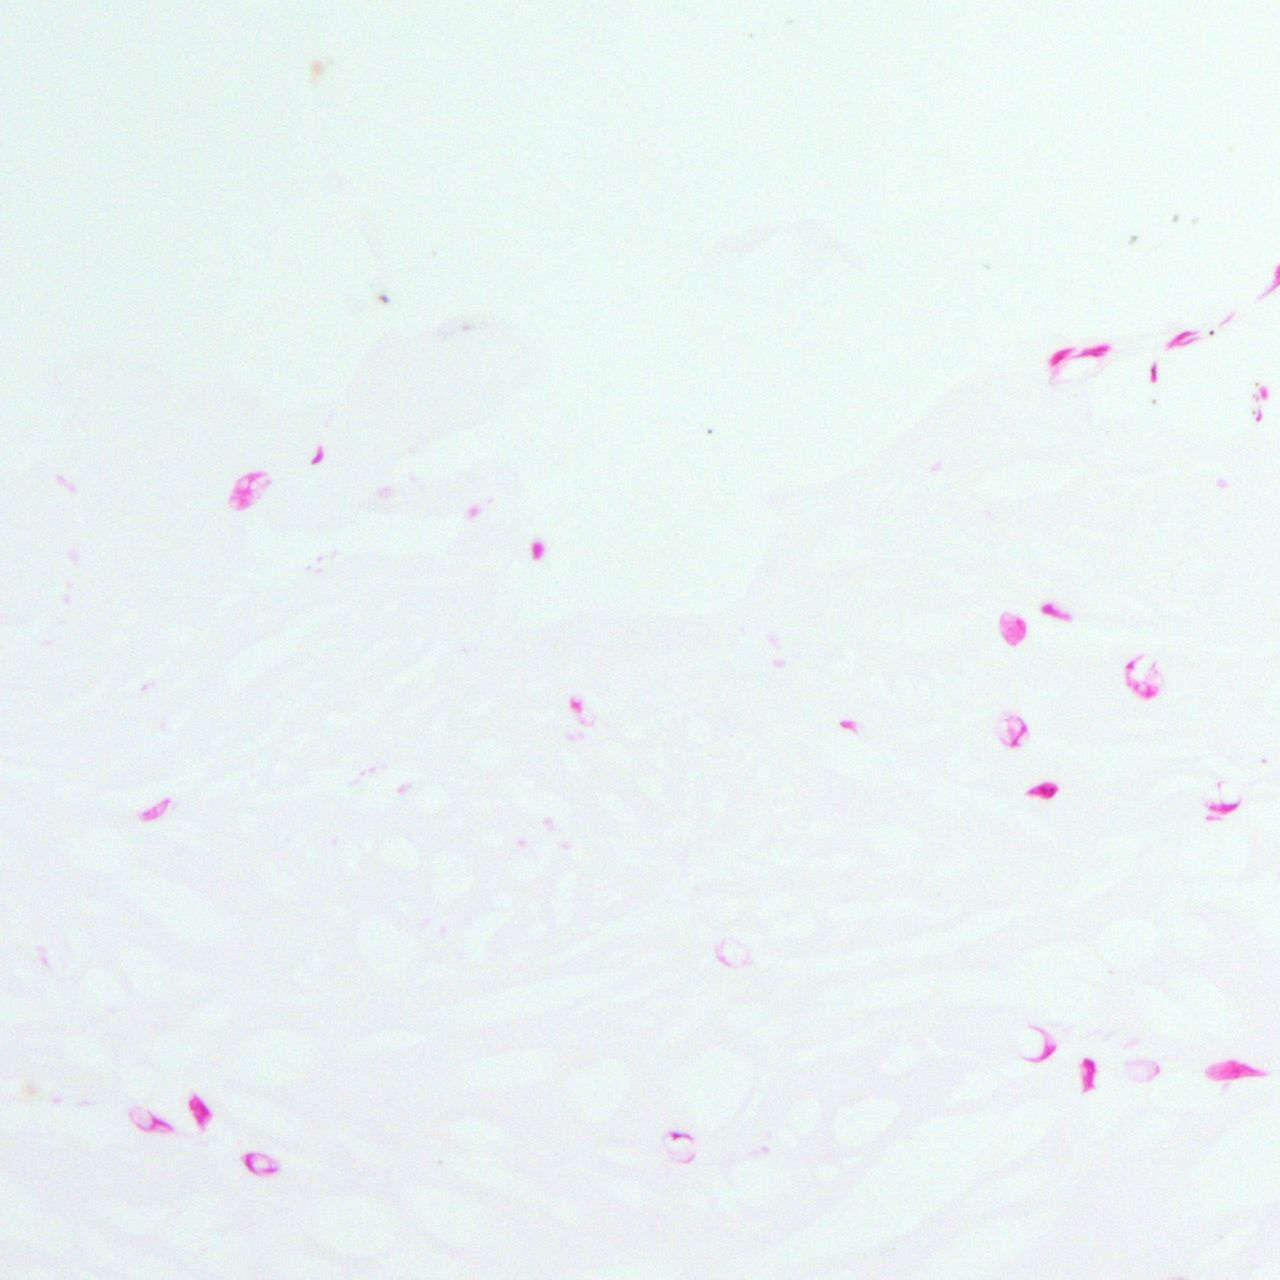dust: (1208, 329, 1213, 335), (1152, 399, 1155, 404), (708, 429, 712, 433)
nucleus-FG: (1206, 1060, 1267, 1080), (1044, 341, 1077, 370), (1039, 599, 1076, 624), (188, 1092, 211, 1131), (1026, 779, 1058, 799), (1080, 1056, 1097, 1092), (1080, 342, 1112, 360), (309, 442, 327, 467), (531, 539, 544, 560), (1150, 362, 1158, 382)
